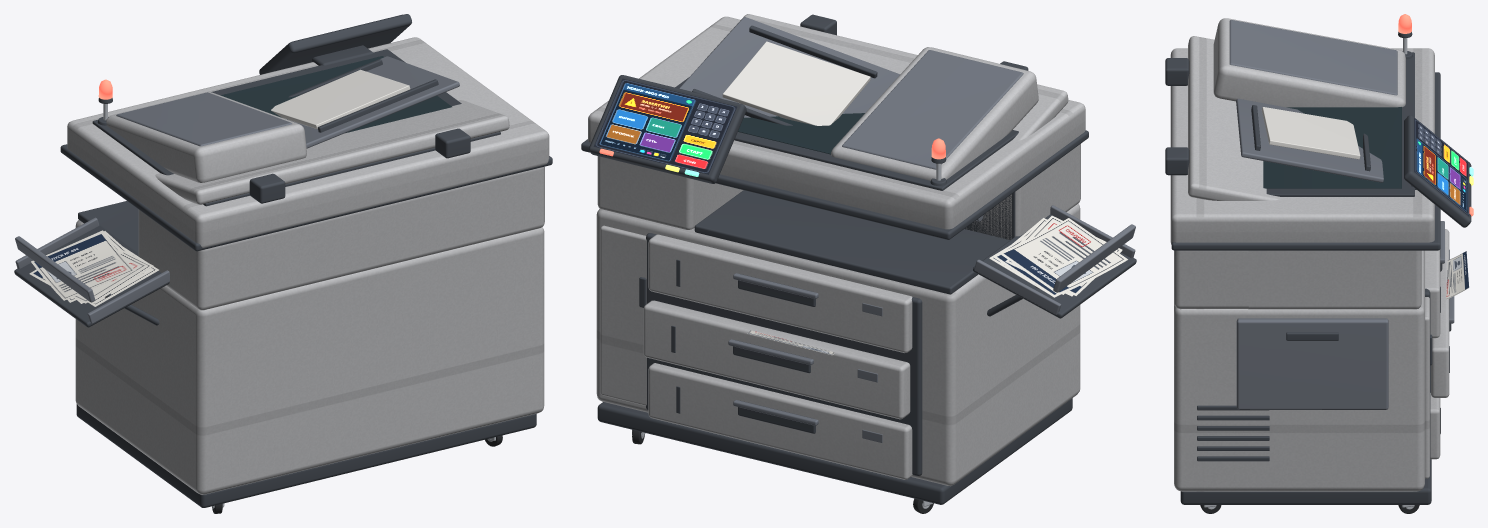
Rendered from prop_xerox_printer.glb.
3 renders of one model, left to right at view 1: azimuth 30°, elevation 25°; view 2: azimuth 150°, elevation 25°; view 3: azimuth 270°, elevation 25°, orthographic. The views are drawn at different scales.
Visible parts, largest first — view 1: prop_xerox_printer; view 2: prop_xerox_printer; view 3: prop_xerox_printer.
Part boxes in pixels (x1,y1,x2,y2): prop_xerox_printer: (14, 14, 552, 513); prop_xerox_printer: (581, 14, 1136, 513); prop_xerox_printer: (1165, 14, 1473, 513).
Bounding box in the file's own units: 1.54 × 1.2 × 0.9331.
13 materials, 3 textured.
